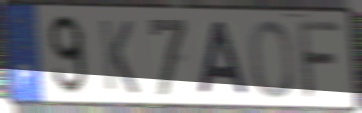7: (147, 17, 188, 98)
9: (46, 12, 90, 99)
A: (196, 19, 251, 99)
F: (295, 18, 344, 102)
K: (97, 17, 141, 97)
O: (248, 18, 297, 101)
